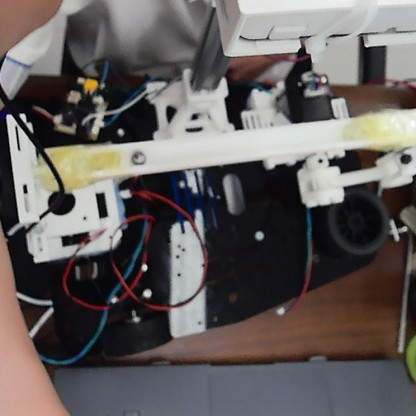ironball: (128, 148, 149, 168)
